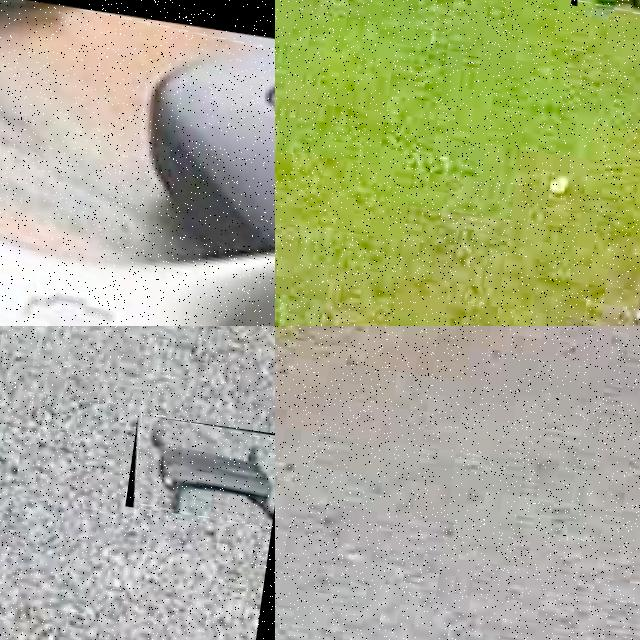0: (125, 414, 275, 527)
drone: (0, 0, 275, 326)
